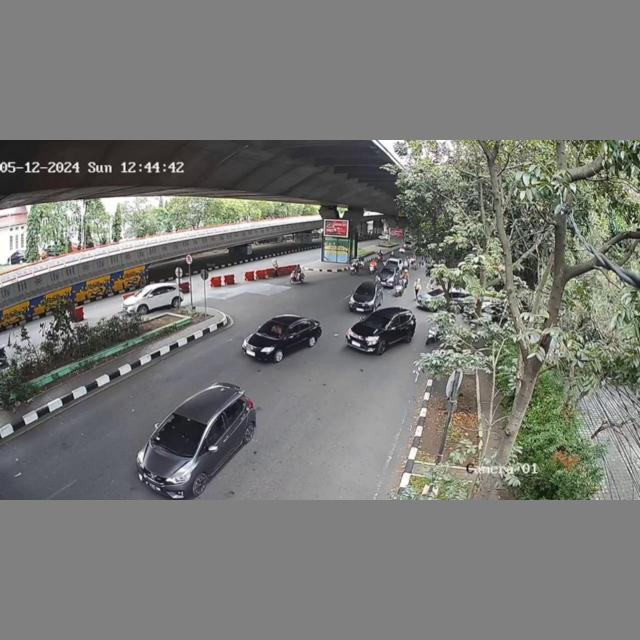windshield: (154, 410, 208, 451), (258, 319, 295, 338), (363, 310, 393, 331)
